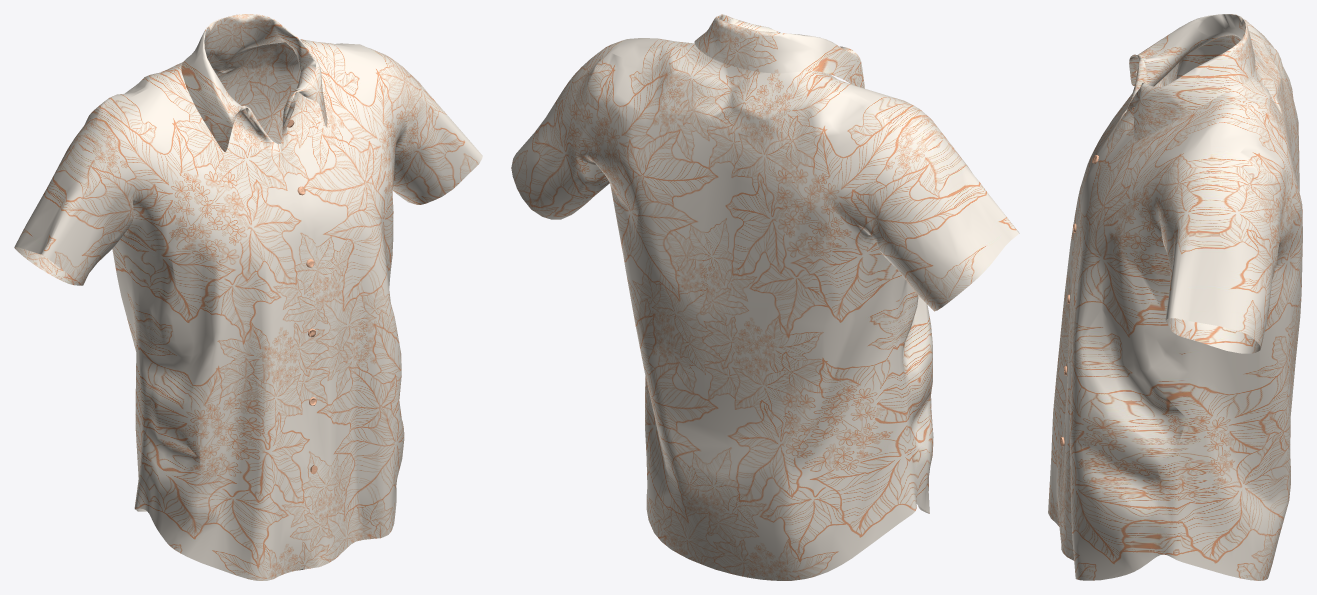
File: ShirtMaker.glb
The picture shows the model from 3 angles, left to right: view 1: azimuth 30°, elevation 25°; view 2: azimuth 150°, elevation 25°; view 3: azimuth 270°, elevation 25°; orthographic projection. The views are drawn at different scales.
Visible parts, largest first — view 1: Shirt; view 2: Shirt; view 3: Shirt.
Boxes of the visible parts, left/top/right/bottom form: Shirt: left=14, top=14, right=482, bottom=580; Shirt: left=511, top=14, right=1019, bottom=580; Shirt: left=1048, top=14, right=1302, bottom=580.
Bounding box in the file's own units: 6.85 × 7.4 × 3.23.
1 material, 1 textured.
